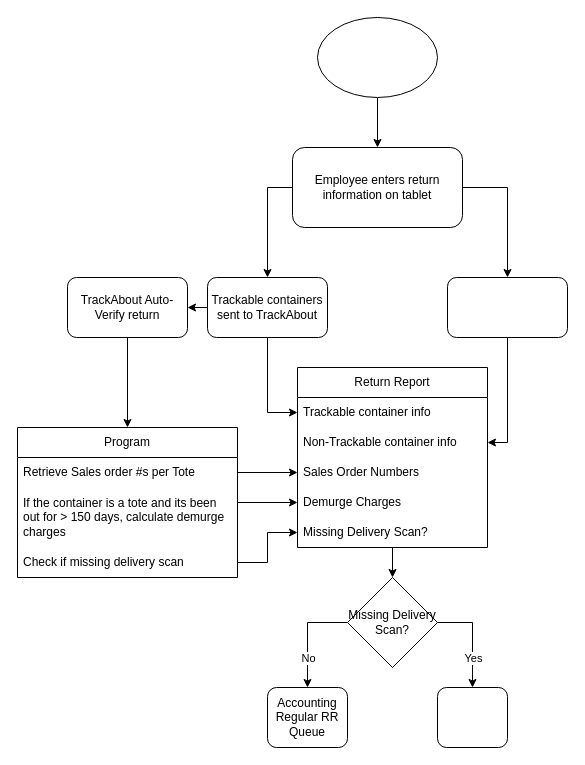
Image size: 585x765. Some labels were removed from this diagram. The shapes that lost their labels are listed below. From the top down, each one's centre as x and y in pixels, then its label:
[377,57]: Customer Returns Container(s)
[507,307]: Non-Trackable containers
[472,717]: Accounting RR Error Queue
